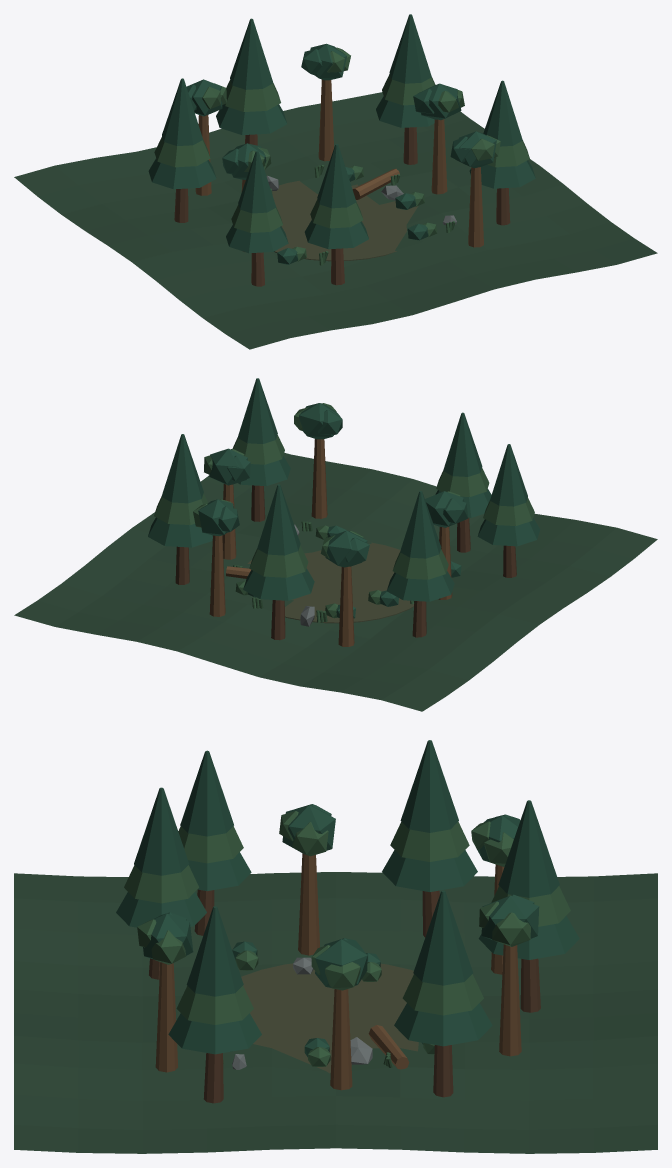
The model's file is night_forest.glb.
The picture shows the model from 3 angles, top to bottom: view 1: azimuth 30°, elevation 25°; view 2: azimuth 150°, elevation 25°; view 3: azimuth 270°, elevation 25°; orthographic projection. The views are drawn at different scales.
Parts seen in each view (by area): view 1: NightTerrain, CentralClearing, Pine_4_Crown_2, Pine_6_Crown_2, Pine_2_Crown_2, Pine_4_Crown_0, Pine_10_Crown_2, Pine_2_Crown_0, Pine_8_Crown_2, Pine_0_Crown_2, Pine_10_Crown_0, Pine_0_Crown_0 (+20 smaller); view 2: NightTerrain, CentralClearing, Pine_4_Crown_2, Pine_6_Crown_2, Pine_2_Crown_2, Pine_4_Crown_0, Pine_8_Crown_2, Pine_10_Crown_2, Pine_2_Crown_0, Pine_0_Crown_2, Pine_4_Crown_1, Pine_6_Crown_0 (+22 smaller); view 3: NightTerrain, CentralClearing, Pine_4_Crown_2, Pine_6_Crown_2, Pine_2_Crown_2, Pine_8_Crown_2, Pine_6_Crown_0, Pine_10_Crown_2, Pine_2_Crown_0, Pine_0_Crown_2, Pine_8_Crown_0, Pine_6_Crown_1 (+26 smaller).
Boxes of the visible parts, box(x1,y1,x2,y2) form: NightTerrain: box(14, 92, 657, 349); CentralClearing: box(272, 180, 418, 261); Pine_4_Crown_2: box(230, 18, 273, 89); Pine_6_Crown_2: box(389, 14, 431, 83); Pine_2_Crown_2: box(162, 78, 203, 145); Pine_4_Crown_0: box(216, 104, 287, 135); Pine_10_Crown_2: box(317, 144, 356, 208); Pine_2_Crown_0: box(148, 158, 216, 189); Pine_8_Crown_2: box(483, 80, 522, 146); Pine_0_Crown_2: box(238, 151, 276, 213); Pine_10_Crown_0: box(304, 220, 368, 249); Pine_0_Crown_0: box(226, 225, 288, 253); NightTerrain: box(14, 452, 657, 711); CentralClearing: box(247, 542, 413, 623); Pine_4_Crown_2: box(257, 484, 300, 555); Pine_6_Crown_2: box(161, 434, 203, 503); Pine_2_Crown_2: box(400, 491, 441, 558); Pine_4_Crown_0: box(243, 568, 314, 600); Pine_8_Crown_2: box(237, 378, 277, 443); Pine_10_Crown_2: box(443, 412, 482, 476); Pine_2_Crown_0: box(387, 571, 454, 601); Pine_0_Crown_2: box(490, 444, 527, 506); Pine_4_Crown_1: box(249, 545, 308, 577); Pine_6_Crown_0: box(148, 517, 212, 547); NightTerrain: box(14, 872, 657, 1153); CentralClearing: box(241, 963, 418, 1073); Pine_4_Crown_2: box(498, 800, 559, 897); Pine_6_Crown_2: box(413, 890, 473, 985); Pine_2_Crown_2: box(400, 740, 458, 832); Pine_8_Crown_2: box(186, 906, 243, 996); Pine_6_Crown_0: box(394, 1003, 492, 1046); Pine_10_Crown_2: box(134, 787, 189, 875); Pine_2_Crown_0: box(382, 850, 477, 891); Pine_0_Crown_2: box(180, 750, 233, 836); Pine_8_Crown_0: box(168, 1013, 261, 1054); Pine_6_Crown_1: box(402, 974, 483, 1015).
Size of the model in its own units: 24 by 8.85 by 24.
